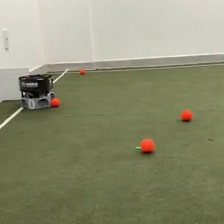ball: (139, 136, 156, 153), (180, 107, 194, 122), (50, 95, 60, 108), (78, 66, 86, 74)
robot: (17, 71, 55, 111)
